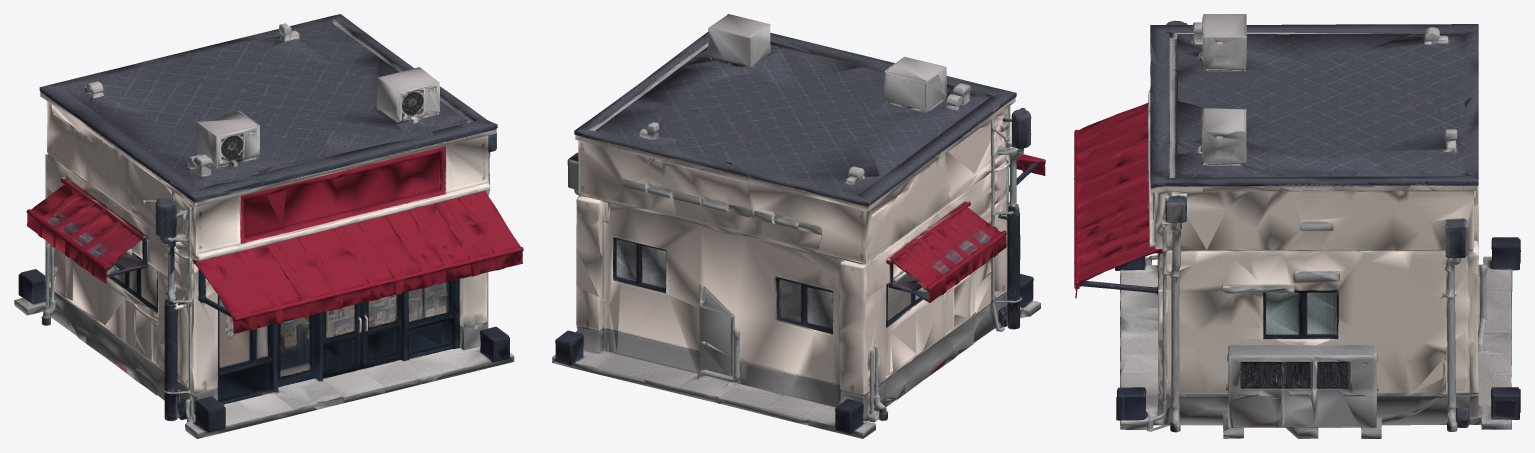
File: BLD_017_small_shop_b_source.glb
The picture shows the model from 3 angles, left to right: view 1: azimuth 30°, elevation 25°; view 2: azimuth 150°, elevation 25°; view 3: azimuth 270°, elevation 25°; orthographic projection. The views are drawn at different scales.
Visible parts, largest first — view 1: Mesh_0.001; view 2: Mesh_0.001; view 3: Mesh_0.001.
Boxes of the visible parts, box(x1,y1,x2,y2) form: Mesh_0.001: box(14, 14, 523, 438); Mesh_0.001: box(552, 14, 1045, 438); Mesh_0.001: box(1074, 14, 1520, 438).
Size of the model in its own units: 5.85 by 4 by 5.78.
Materials: 1 (1 with a texture image).
